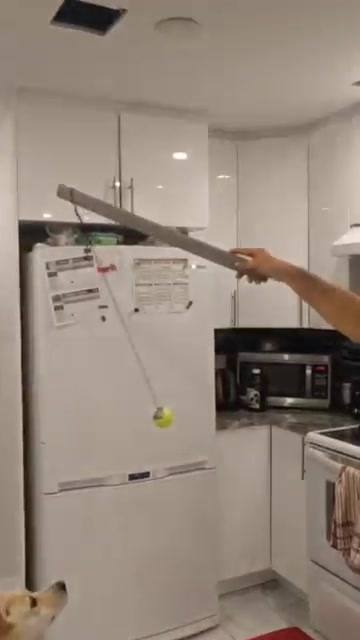tennis_ball: (151, 406, 174, 430)
